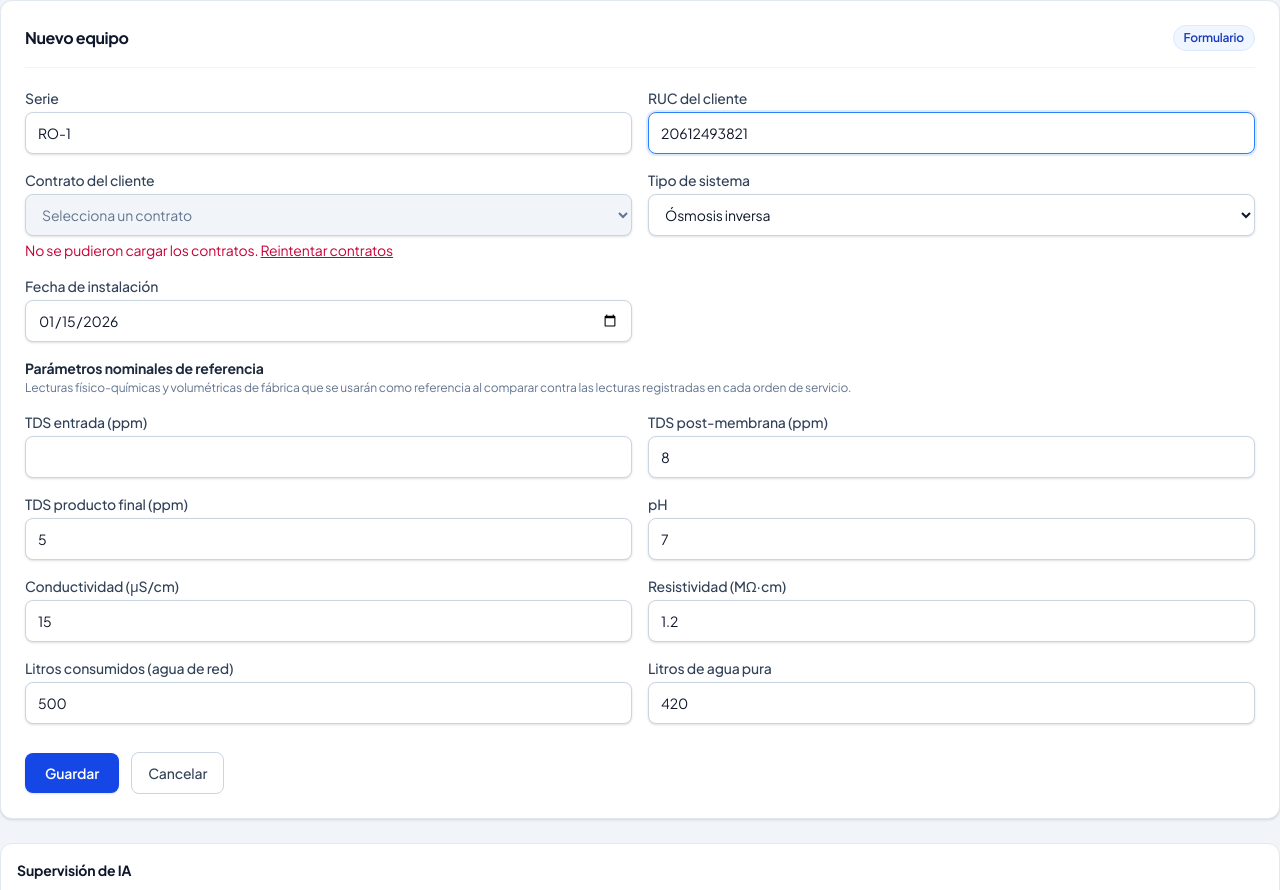
Test: EquiposPage › parámetros nominales: un campo vacío se rechaza
Earlier steps of the test are not shown.
(page scrolled)
Click the button "Guardar". click: (72, 773)
box: [25,753,119,793]
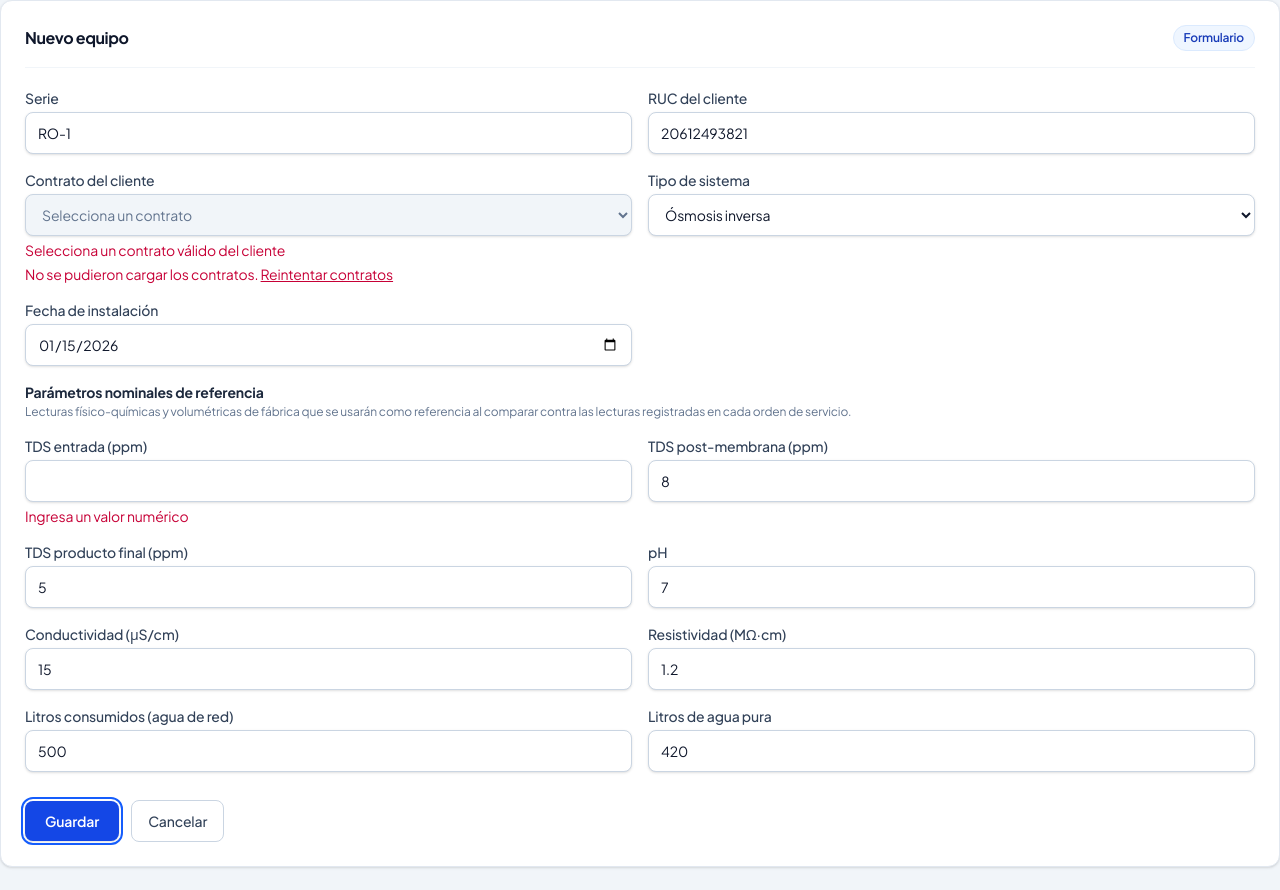
Expected: the text "Ingresa un valor numérico" is shown, [25,507,188,525]
